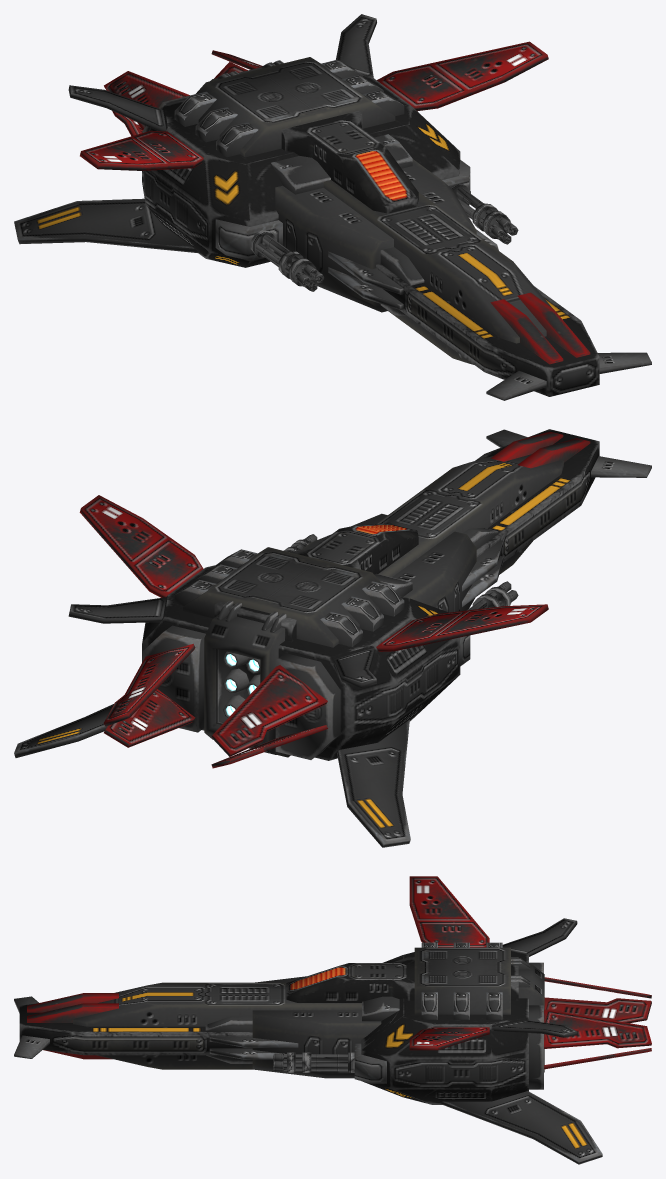
Rendered from raider-jackdaw.glb.
3 views of the same model, one above another, from view 1: azimuth 30°, elevation 25°; view 2: azimuth 150°, elevation 25°; view 3: azimuth 270°, elevation 25° (orthographic). The views are drawn at different scales.
Parts seen in each view (by area): view 1: hull; view 2: hull; view 3: hull.
Boxes of the visible parts, x1,y1,x2,y2 form: hull: [14, 14, 651, 400]; hull: [14, 429, 651, 847]; hull: [14, 876, 651, 1164].
Bounding box in the file's own units: 0.634 × 0.2241 × 1.
1 material, 1 textured.
